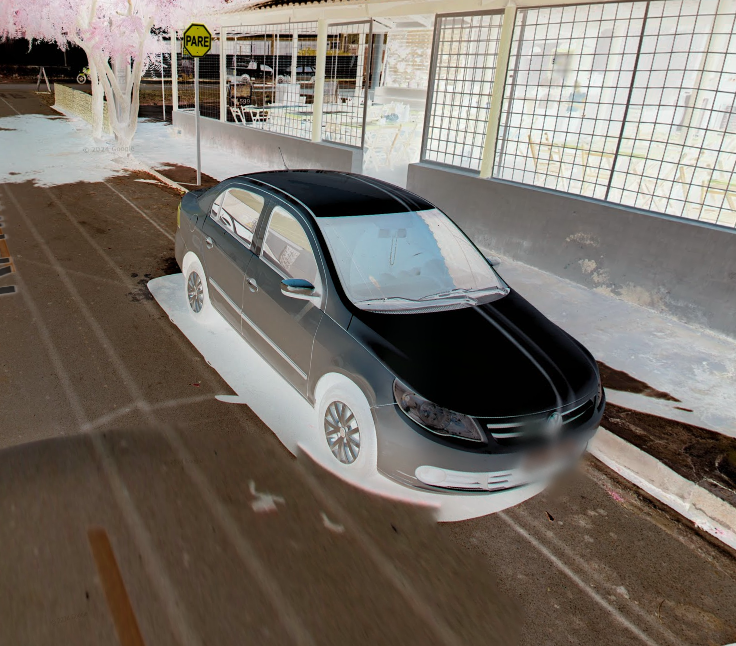car: (169, 146, 637, 513)
